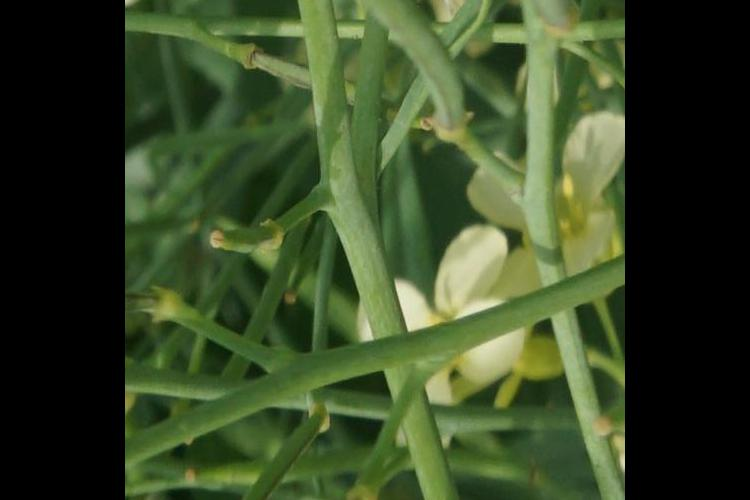pod: (246, 1, 494, 105), (221, 387, 354, 500), (196, 165, 328, 256)
